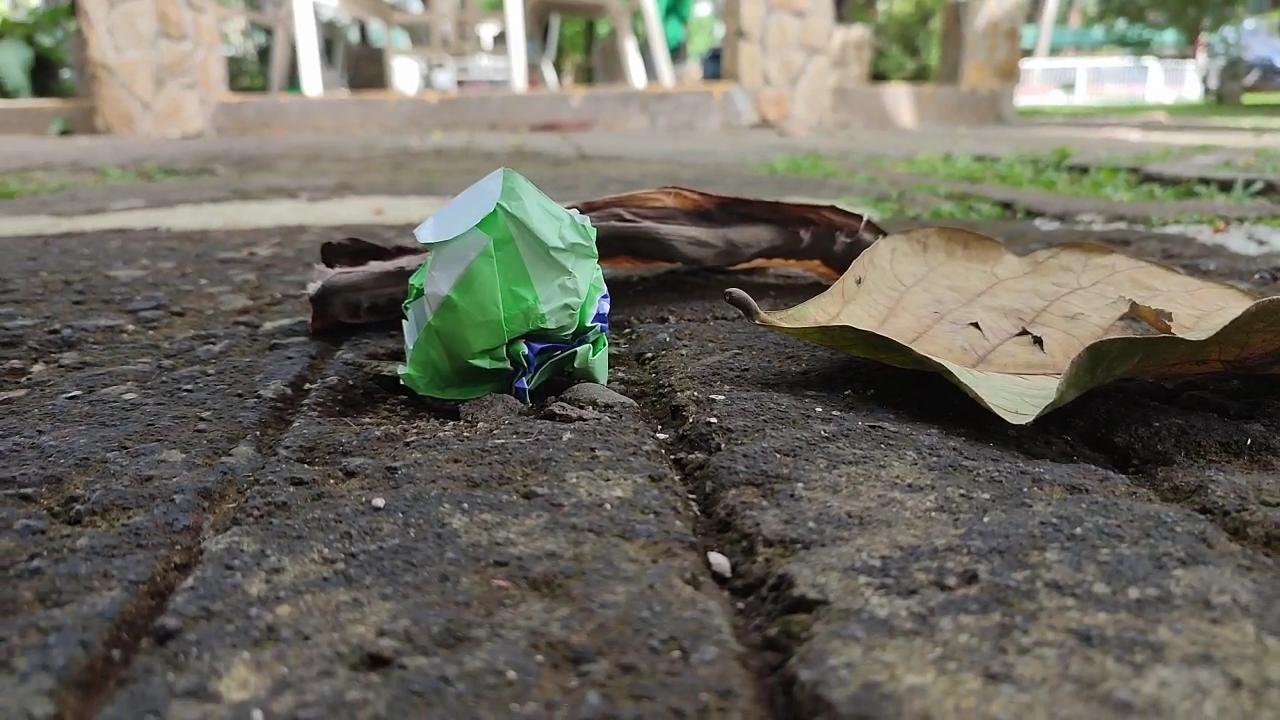Paper: (372, 155, 624, 420)
